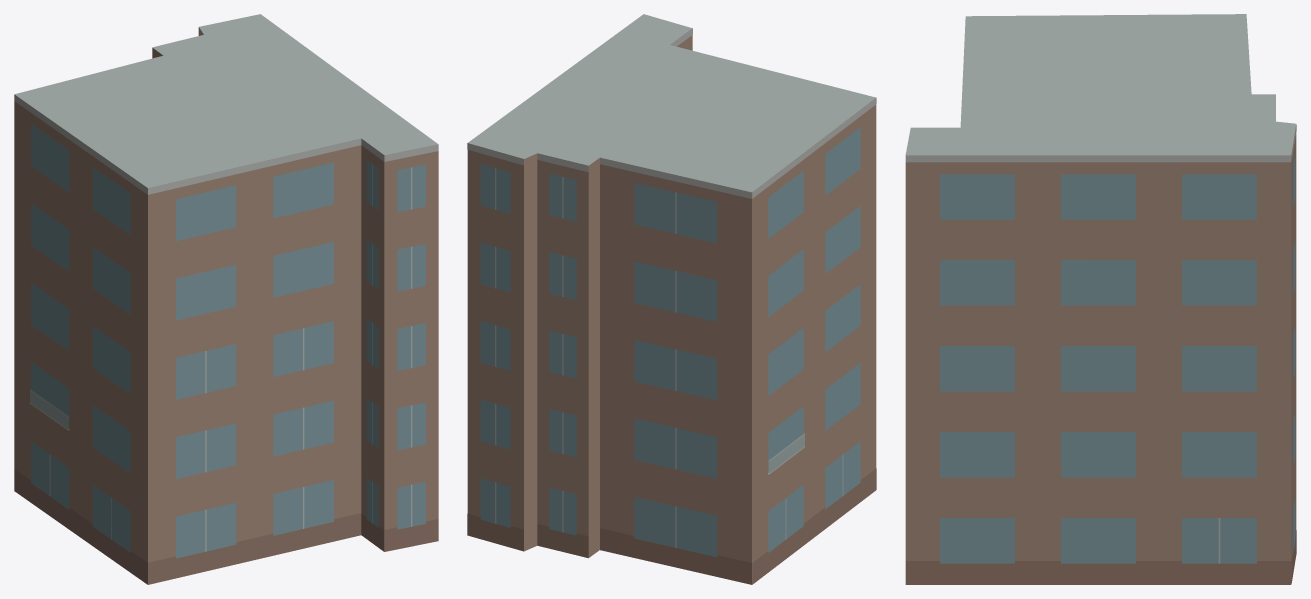
Rendered from survey-upis-32828858.glb.
3 views of the same model, side by side, from view 1: azimuth 30°, elevation 25°; view 2: azimuth 150°, elevation 25°; view 3: azimuth 270°, elevation 25° (orthographic). The views are drawn at different scales.
Visible parts, largest first — view 1: survey-upis-32828858.tmp; view 2: survey-upis-32828858.tmp; view 3: survey-upis-32828858.tmp.
Boxes of the visible parts, x1,y1,x2,y2 form: survey-upis-32828858.tmp: (14, 14, 438, 584); survey-upis-32828858.tmp: (467, 14, 876, 584); survey-upis-32828858.tmp: (905, 14, 1296, 584).
Bounding box in the file's own units: 10.31 × 14.6 × 12.05.
